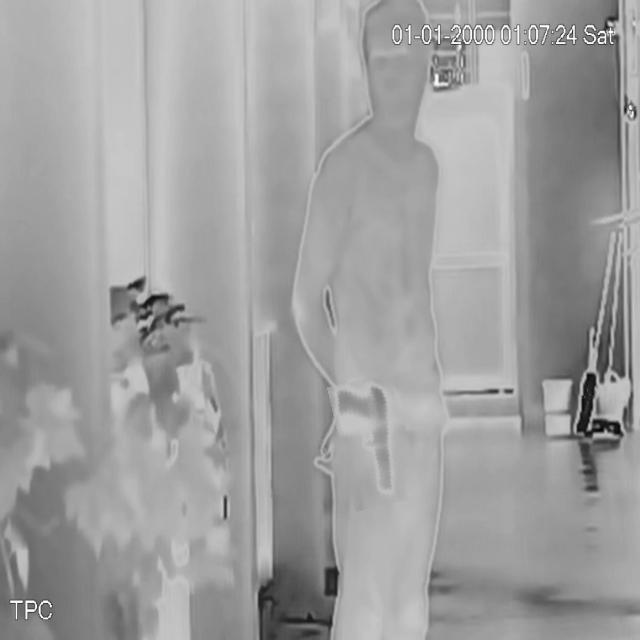Weapon: (334, 375, 416, 509)
